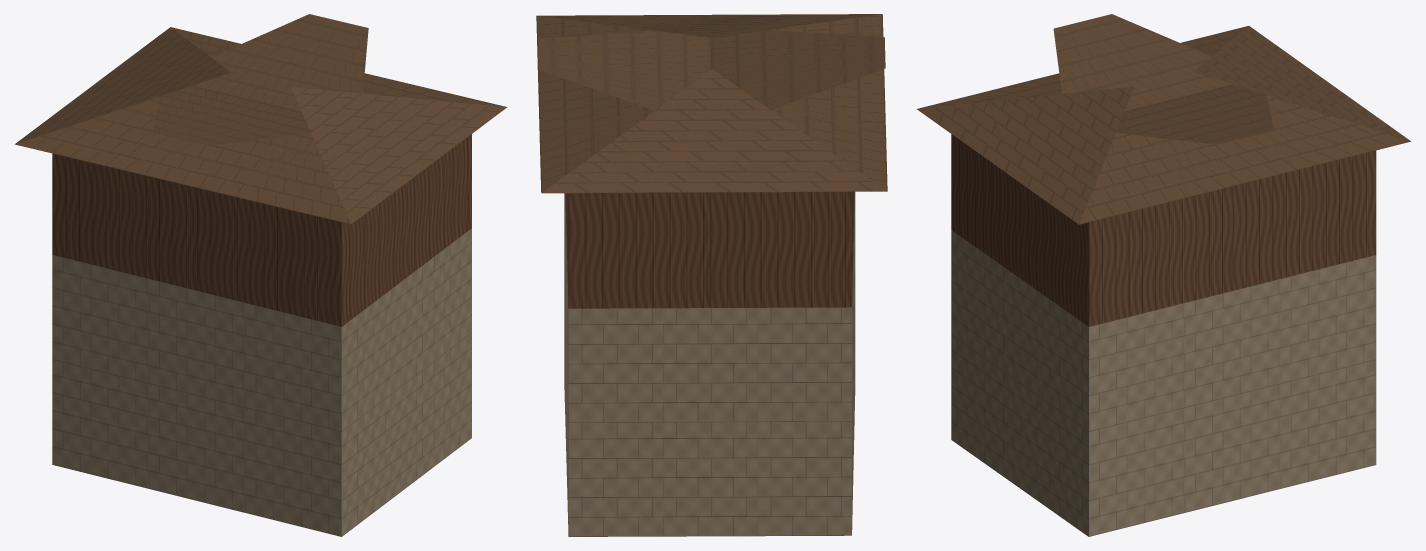
The model's file is bld_c21_29_389.gltf.
The picture shows the model from 3 angles, left to right: view 1: azimuth 30°, elevation 25°; view 2: azimuth 150°, elevation 25°; view 3: azimuth 270°, elevation 25°; orthographic projection. The views are drawn at different scales.
Visible parts, largest first — view 1: bld_c21_29_389; view 2: bld_c21_29_389; view 3: bld_c21_29_389.
Part boxes in pixels (x1,y1,x2,y2): bld_c21_29_389: (14,14,507,536); bld_c21_29_389: (536,14,887,536); bld_c21_29_389: (917,14,1410,536).
Size of the model in its own units: 9.27 by 8.1 by 9.74.
3 materials, 3 textured.
